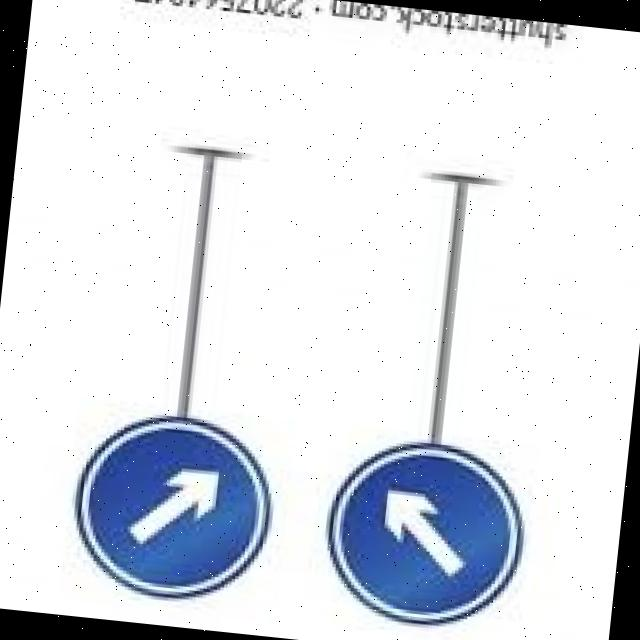compulsory_keep_right: (311, 423, 543, 640)
